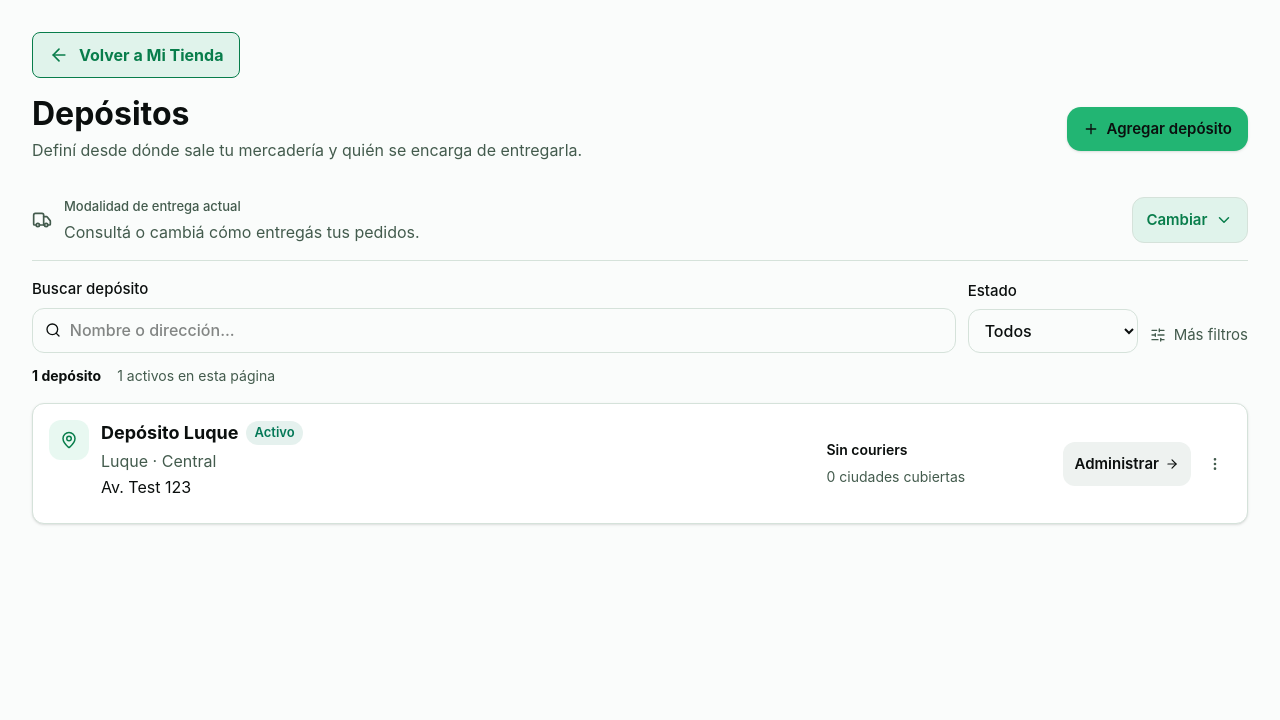
Test: Depósitos: alta simple › si el depósito no tiene couriers disponibles, guía a crear el primer courier
The image size is (1280, 720).
Expected: the heading "Depósito Luque" is shown, [101,420,238,446]
Click the button "Administrar" at (1127, 464), box [1062,442,1191,486]
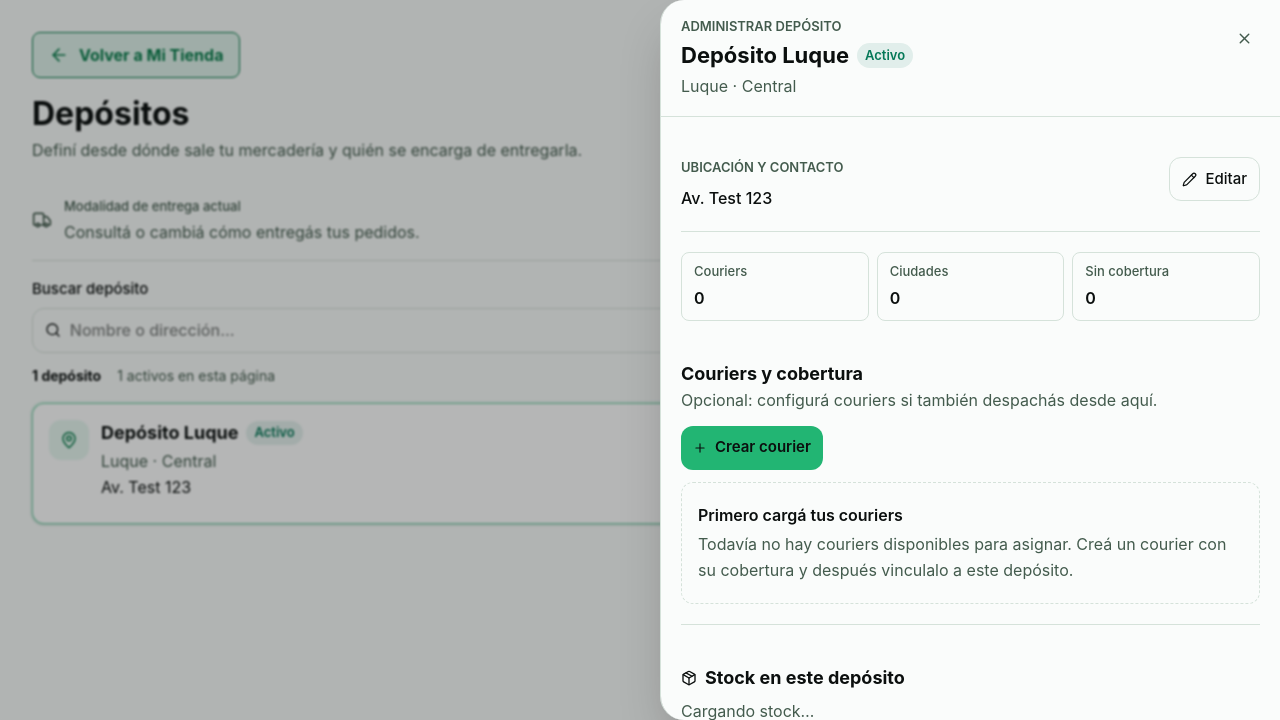
Result: the text "Primero cargá tus couriers" is shown at [698,505,903,525]
Click the button "Crear courier" at (752, 448), box [681,426,823,470]
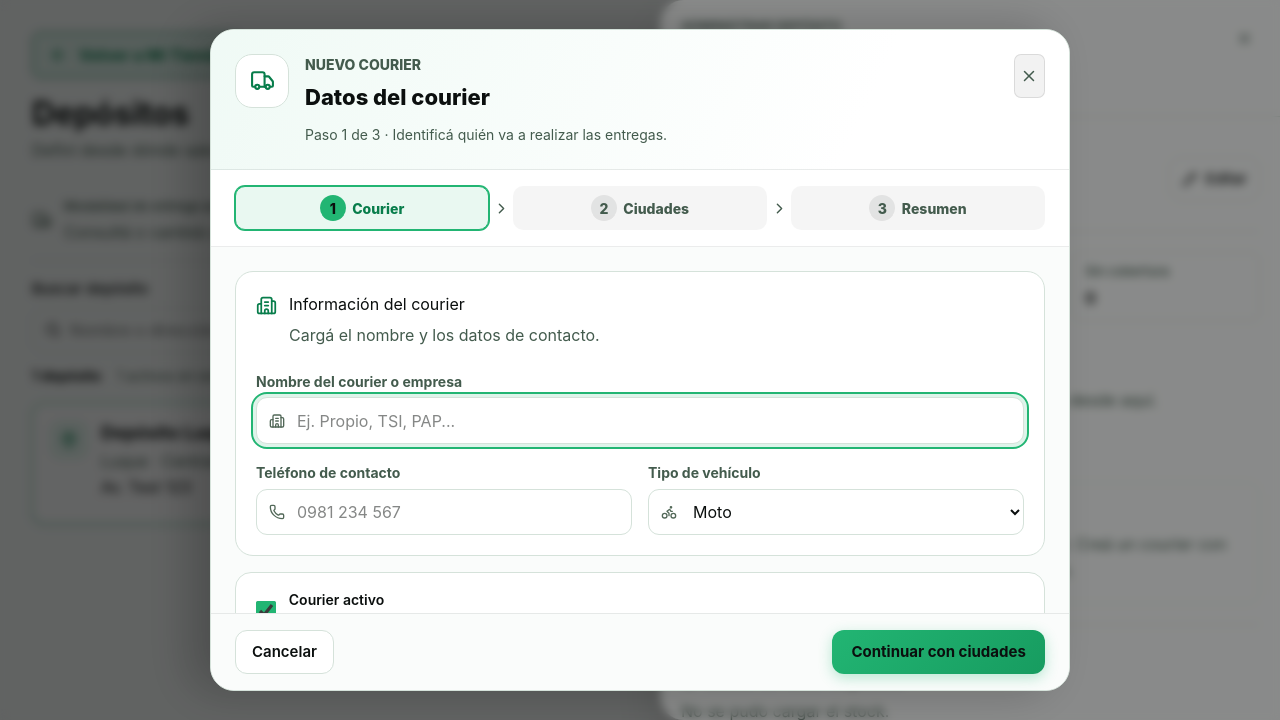
Result: the text "Nuevo courier" is shown at [305,56,421,73]
Result: the heading "Datos del courier" is shown at [305,84,490,110]
